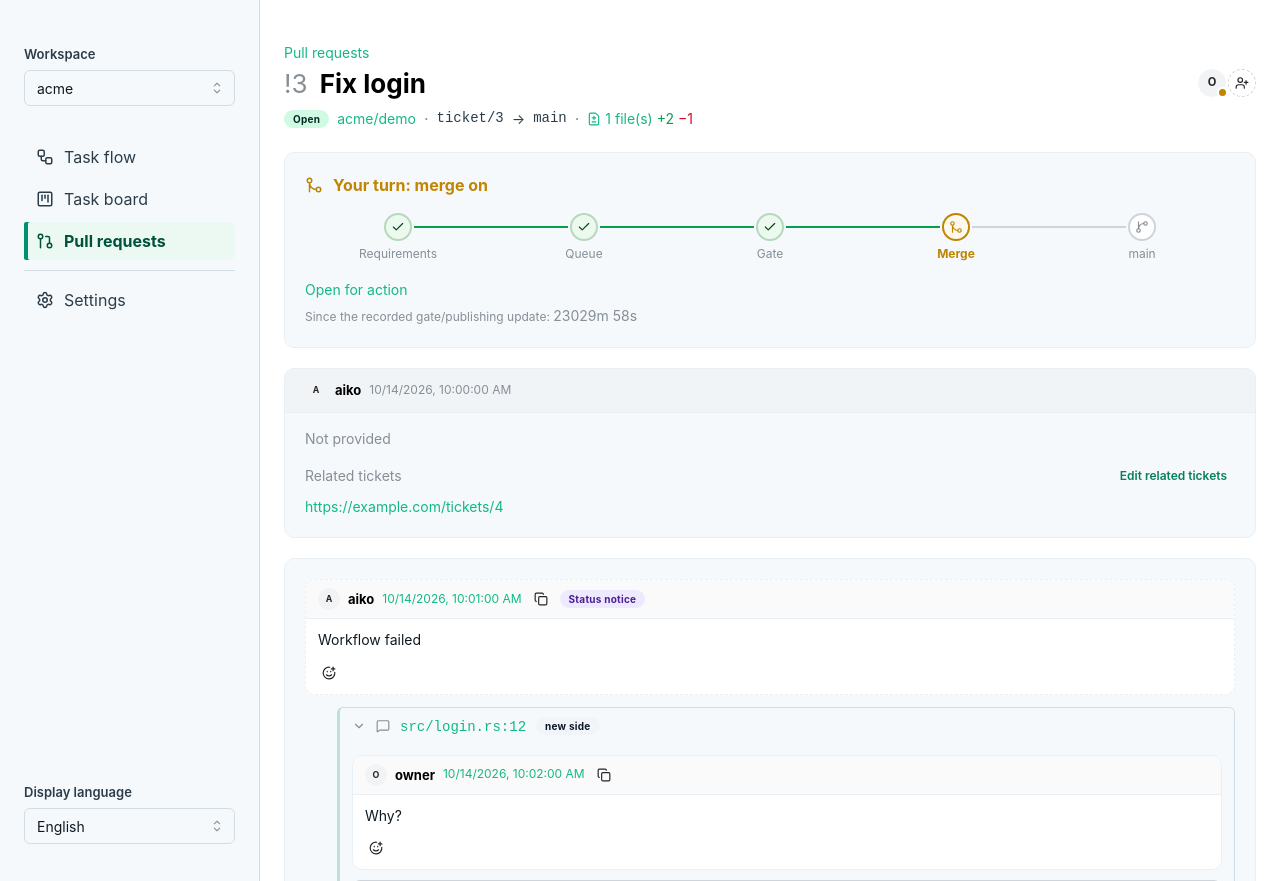
Scenario: related ticket editor › can remove every link, including a foreign reference
Click the button "Edit related tickets" at (1173, 476), box top-left (1112, 465), bottom-right (1235, 487)
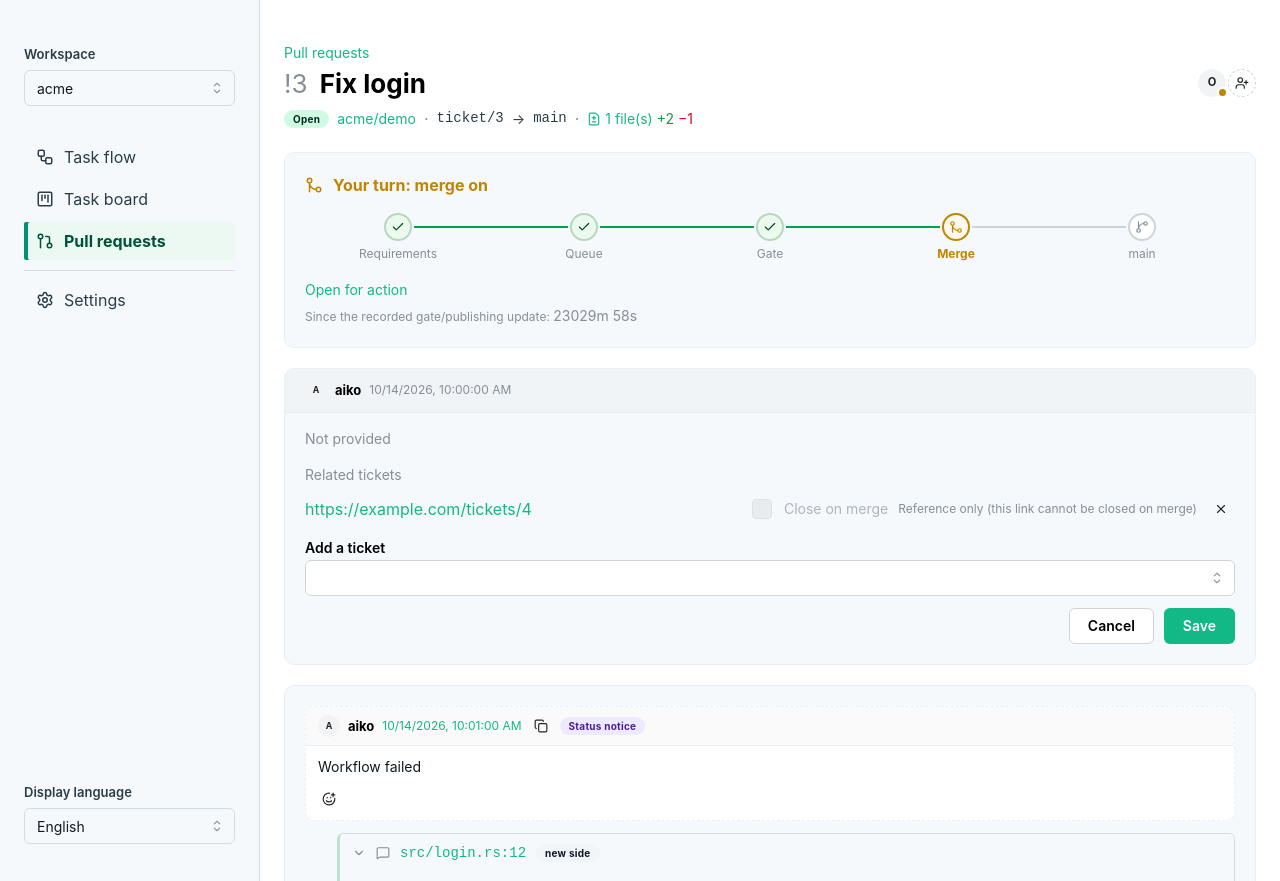
Click the button named "Remove https://example.com/tickets/4" at (1221, 509), box top-left (1207, 495), bottom-right (1235, 523)
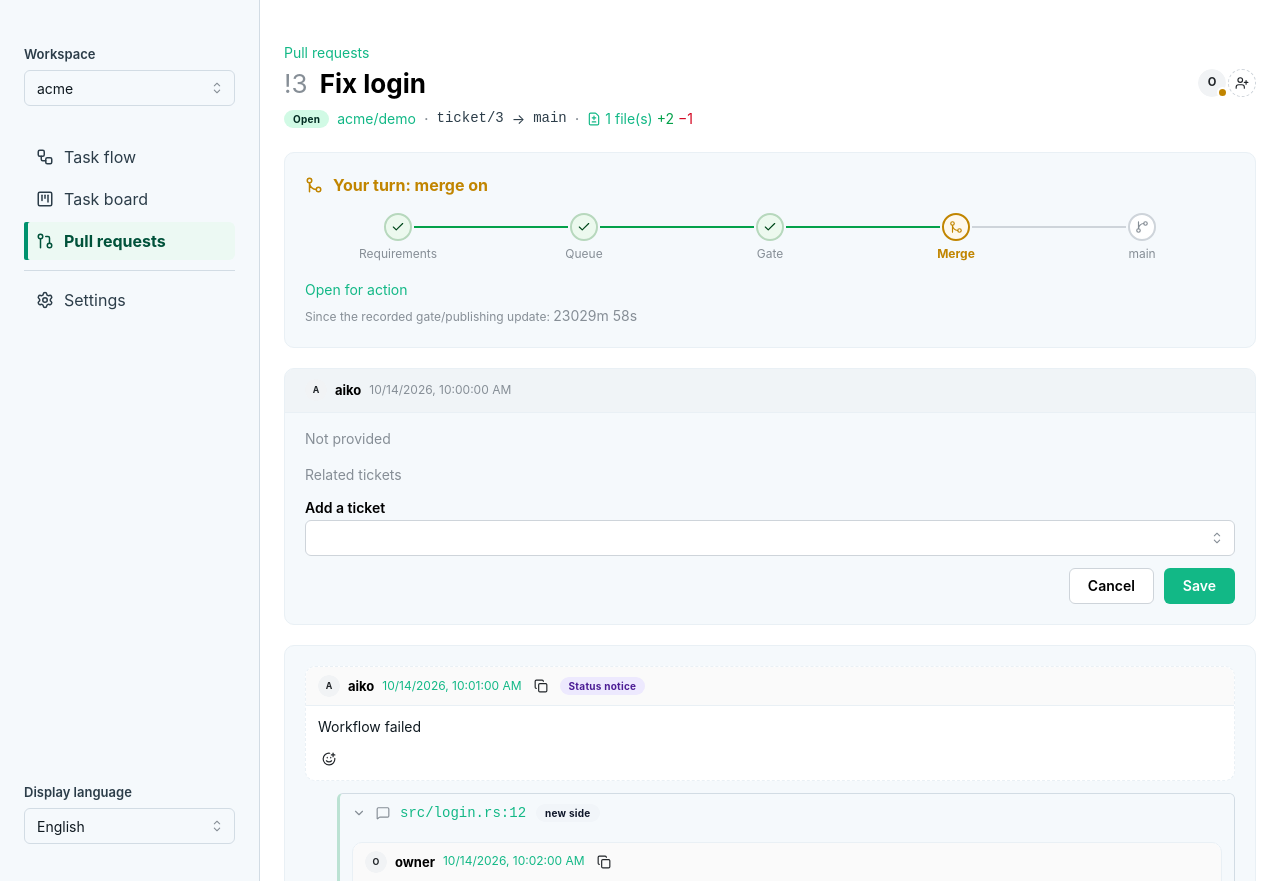
Click the button "Save" at (1199, 586), box top-left (1164, 568), bottom-right (1235, 604)
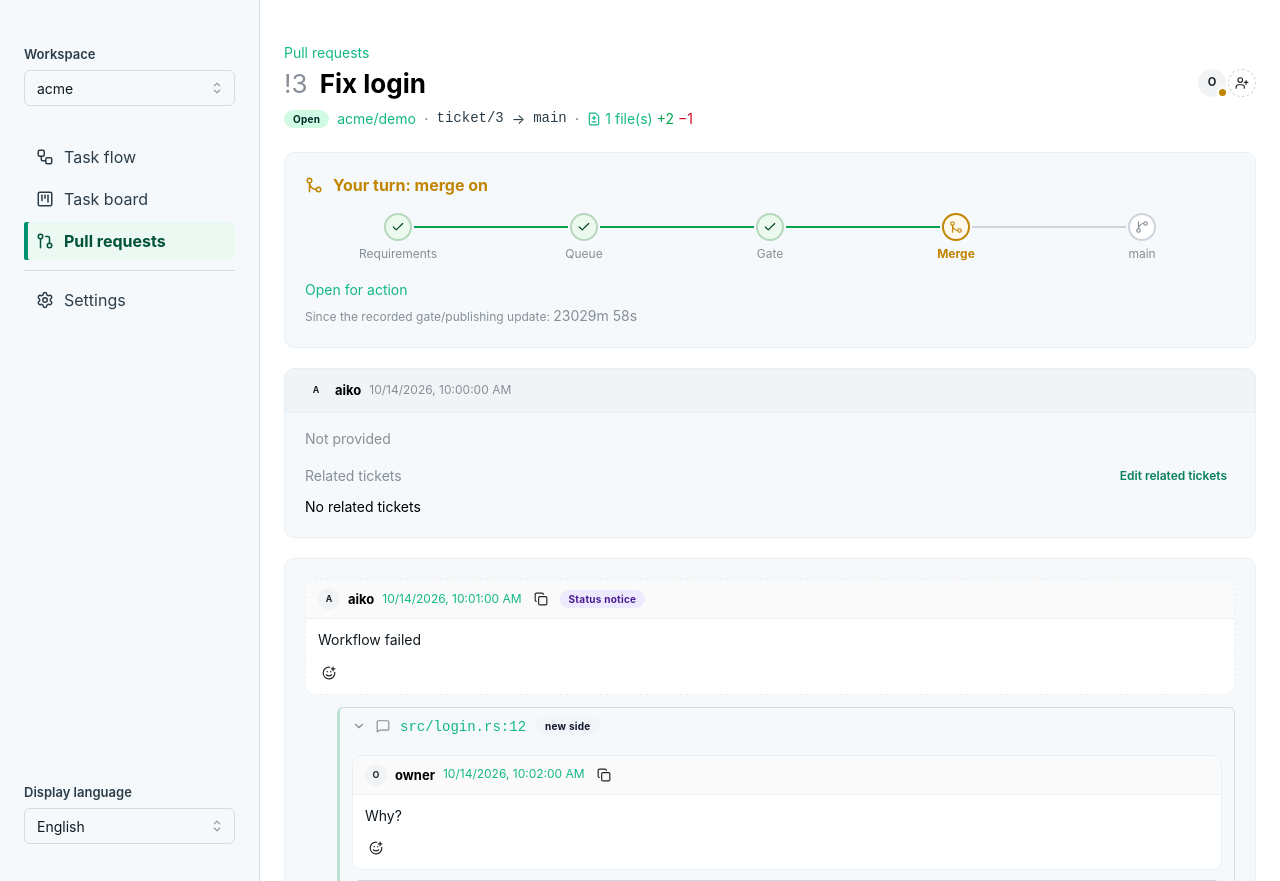
Now the text "No related tickets" is shown, box top-left (305, 498), bottom-right (421, 515)
